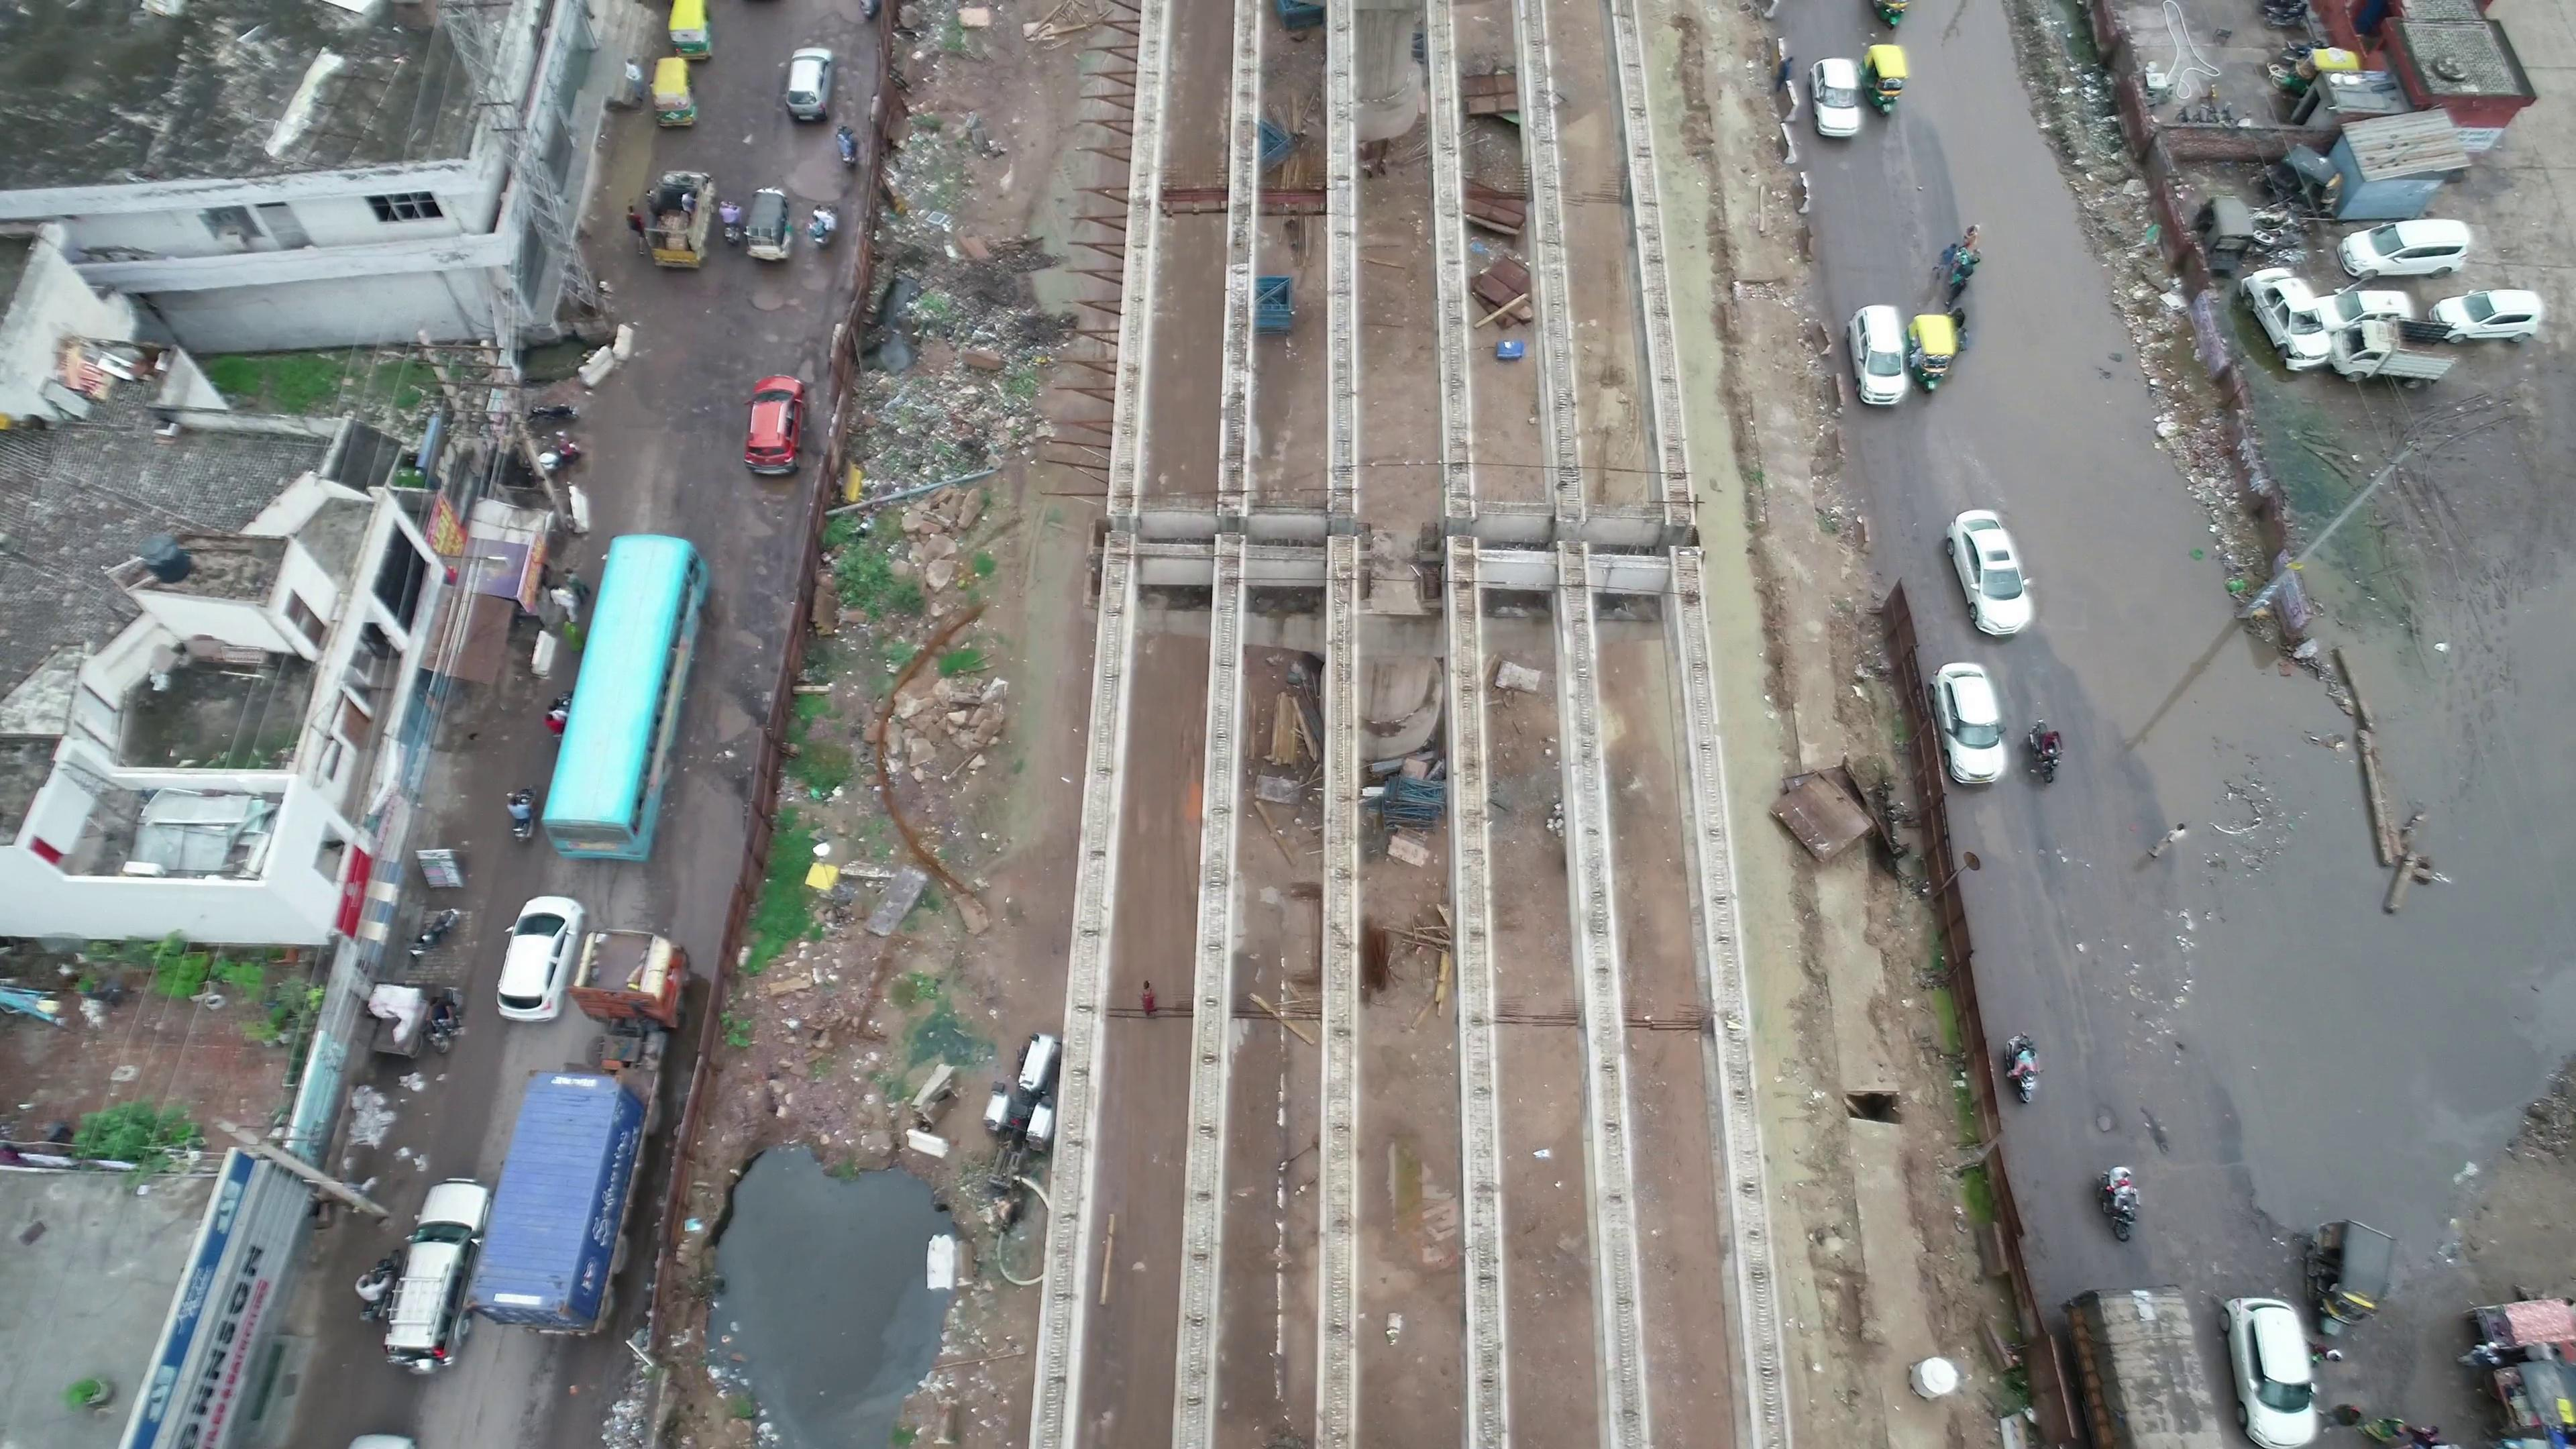Waterlogging: (2128, 740, 2528, 1200), (1955, 265, 2236, 722)
